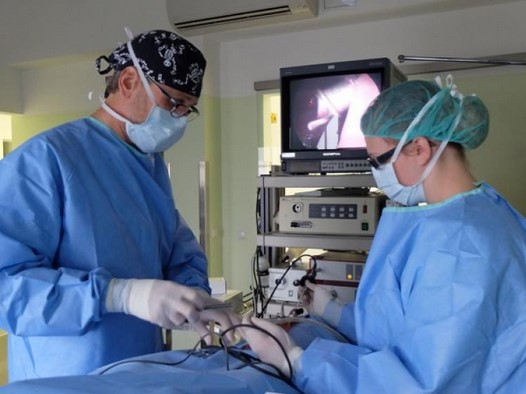face_with_mask: (361, 80, 485, 208), (103, 29, 206, 155)
